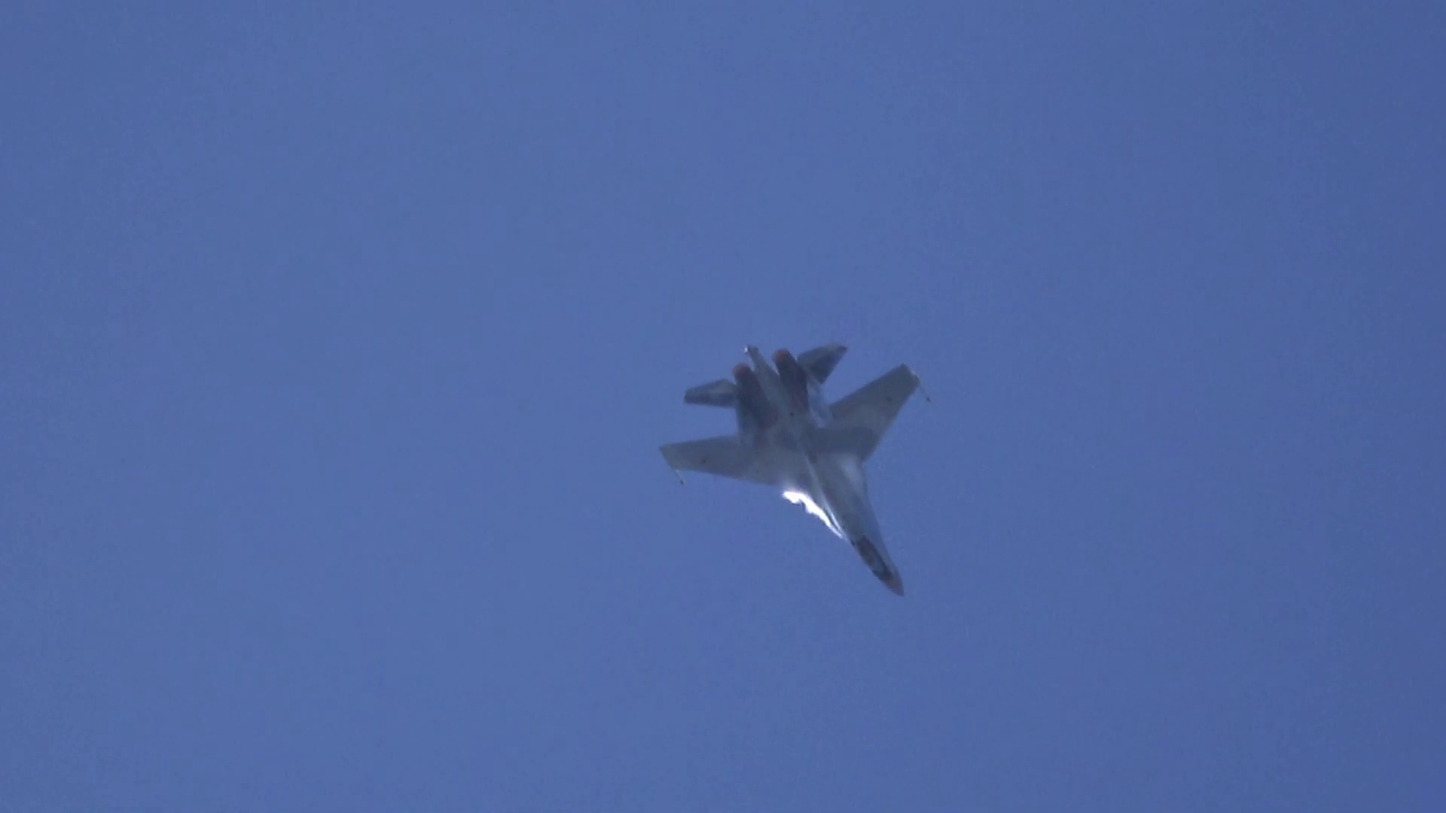Su35: (659, 343, 921, 598)
